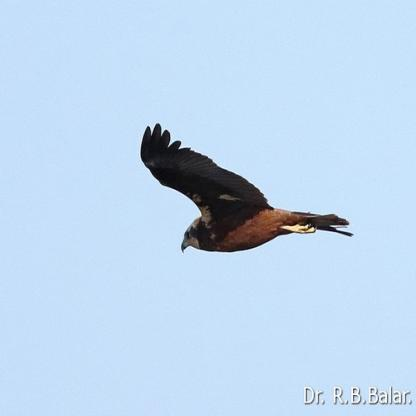Burung: (136, 122, 354, 259)
